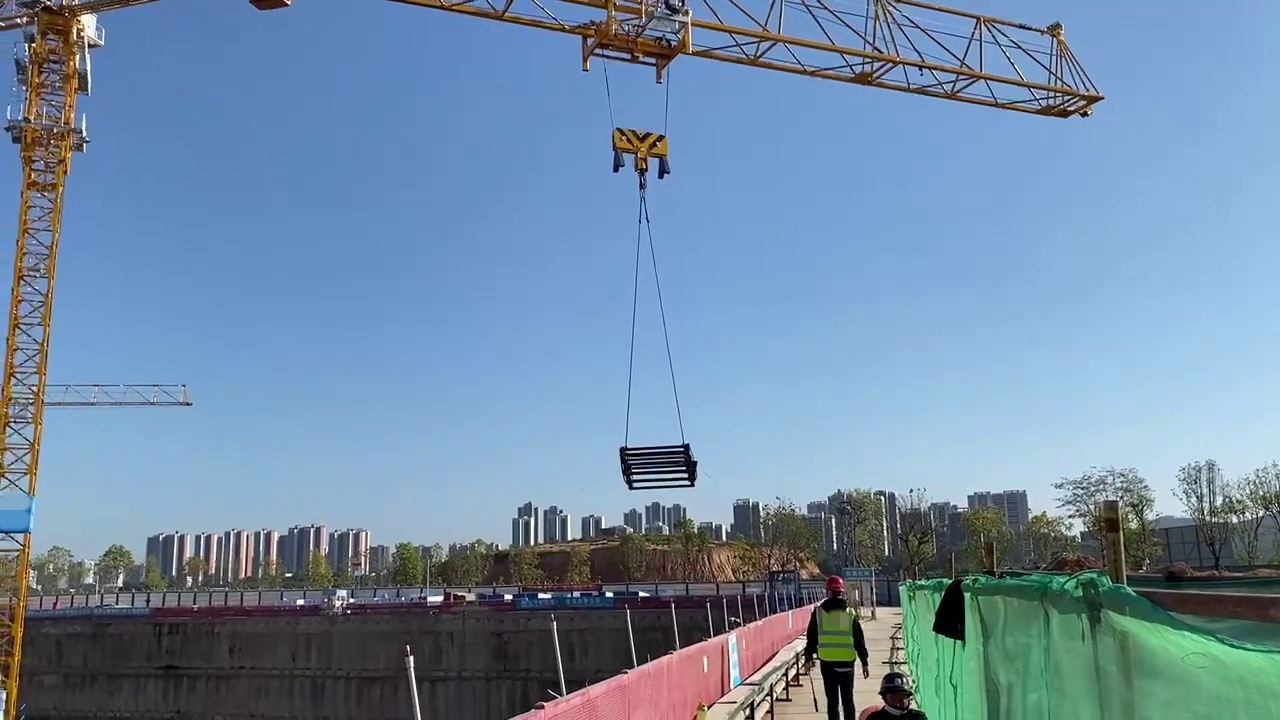fence: (509, 611, 805, 720)
helmet: (877, 670, 916, 695), (821, 576, 846, 591)
hook: (605, 122, 681, 186)
person: (809, 576, 860, 719), (865, 669, 922, 720)
vest: (812, 603, 859, 666)
